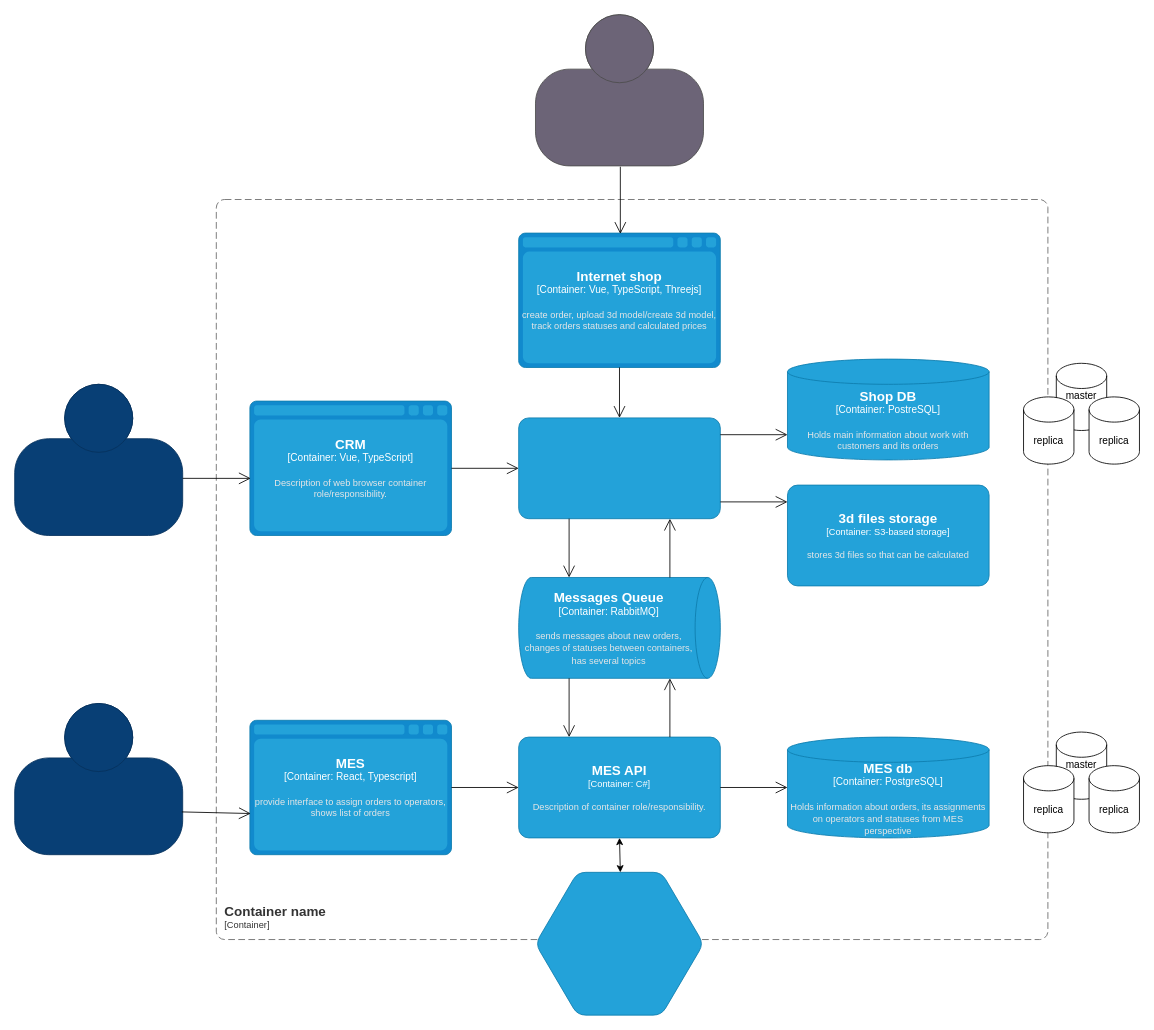
This 1154x1030 diagram has some shape labels left out. Each missing label, with the centre of its shape:
"cache [Container: redis] order statuses" belongs at [619,943].
"CRM API [Container: SpringBoot] Description of container role/responsibility." belongs at [619,468].
"Customer [Person] Description of external person." belongs at [619,90].
"Operator [Person]" belongs at [98,779].
"Seller [Person]" belongs at [98,459].
